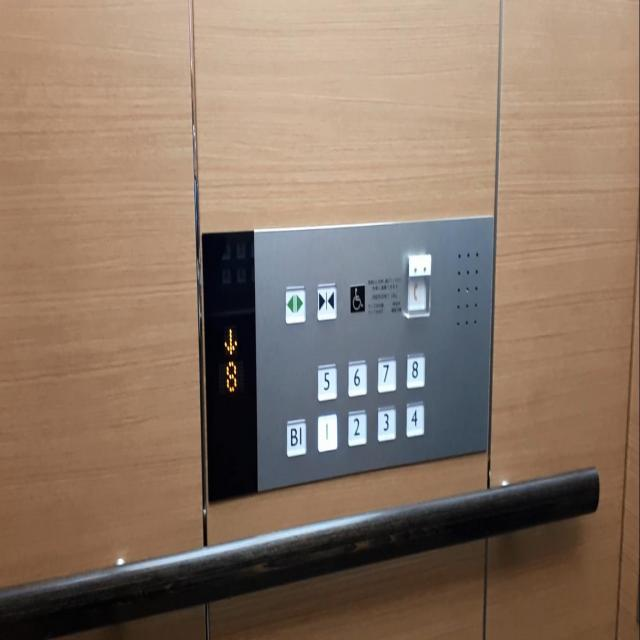1: (316, 410, 339, 454)
2: (346, 407, 368, 449)
3: (376, 403, 398, 444)
4: (404, 398, 426, 440)
5: (316, 360, 338, 405)
6: (346, 356, 368, 400)
7: (375, 353, 397, 395)
8: (404, 349, 427, 392)
B1: (285, 416, 308, 459)
CH: (348, 282, 366, 315)
call: (404, 250, 432, 321)
close: (315, 279, 339, 323)
led: (200, 225, 258, 509)
open: (284, 282, 308, 326)
